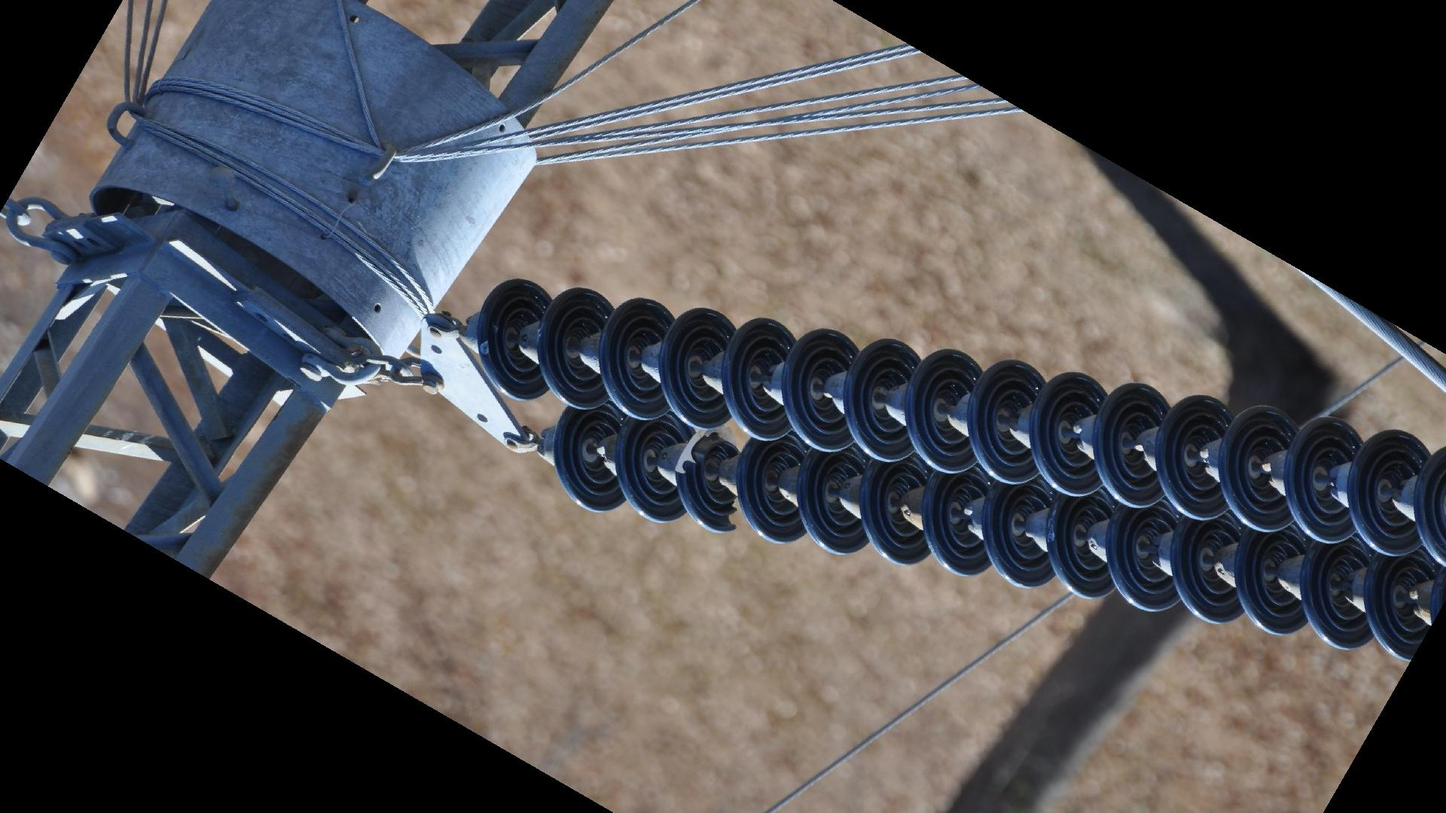insulator: (474, 273, 1446, 577), (545, 403, 1439, 668)
insulator_breakage: (672, 421, 744, 535)
